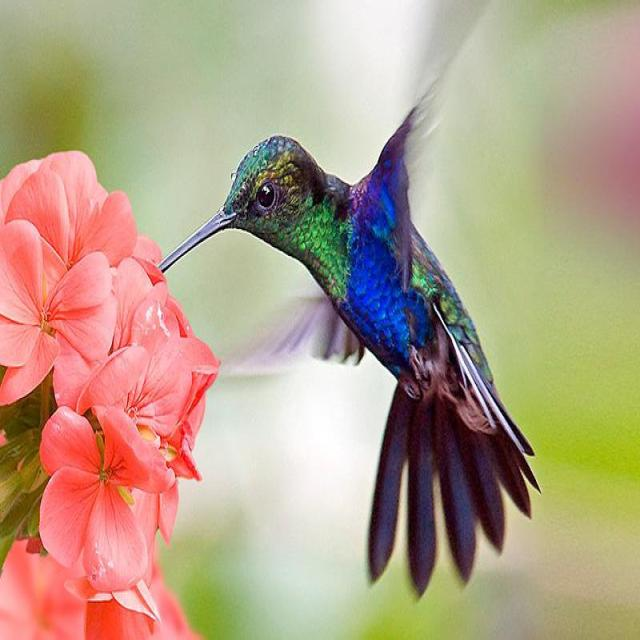Humming Bird: (158, 66, 528, 579)
